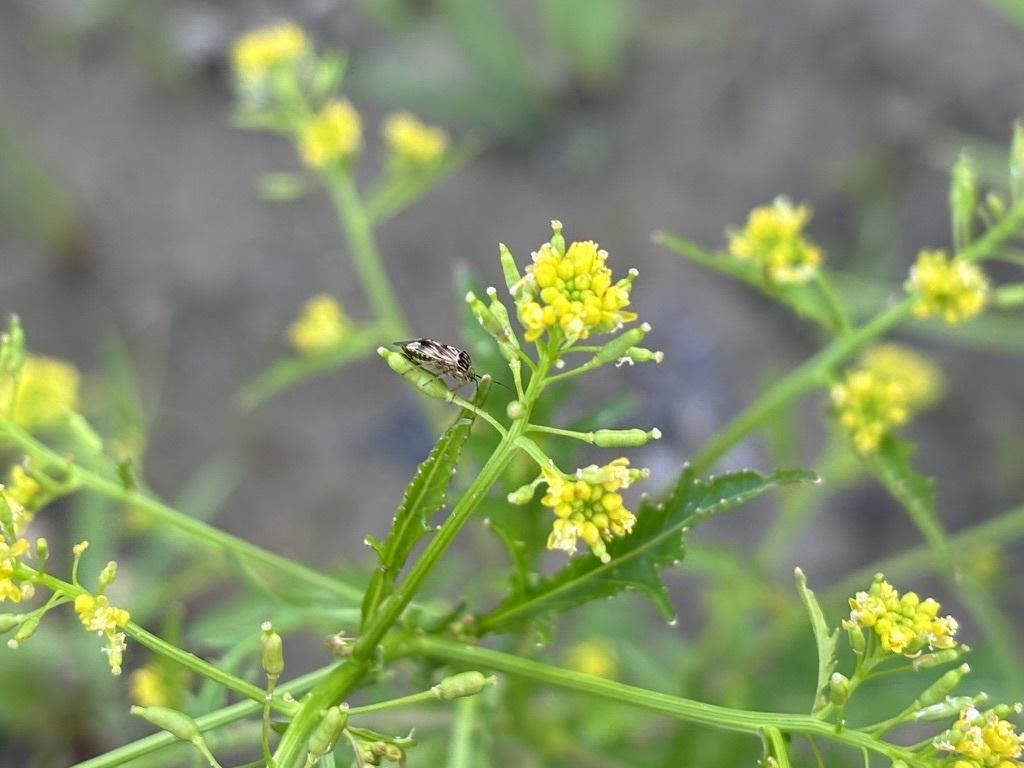plant_bugs: (381, 306, 510, 415)
